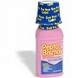grozi_96: (35, 0, 62, 78)
